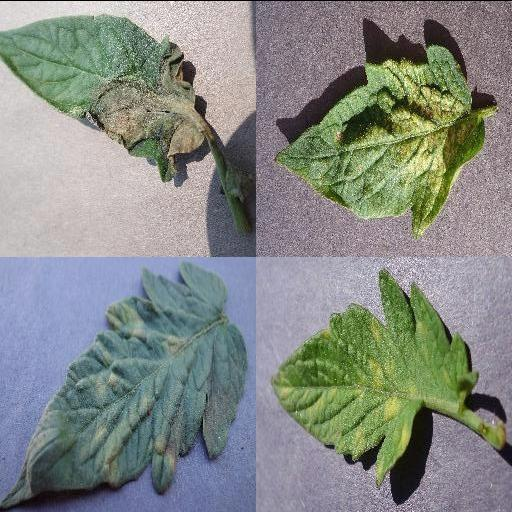Late Blight: (0, 15, 212, 185)
Leaf Mold: (0, 265, 248, 510), (268, 268, 480, 489)
Spider Mites: (273, 43, 485, 236)
